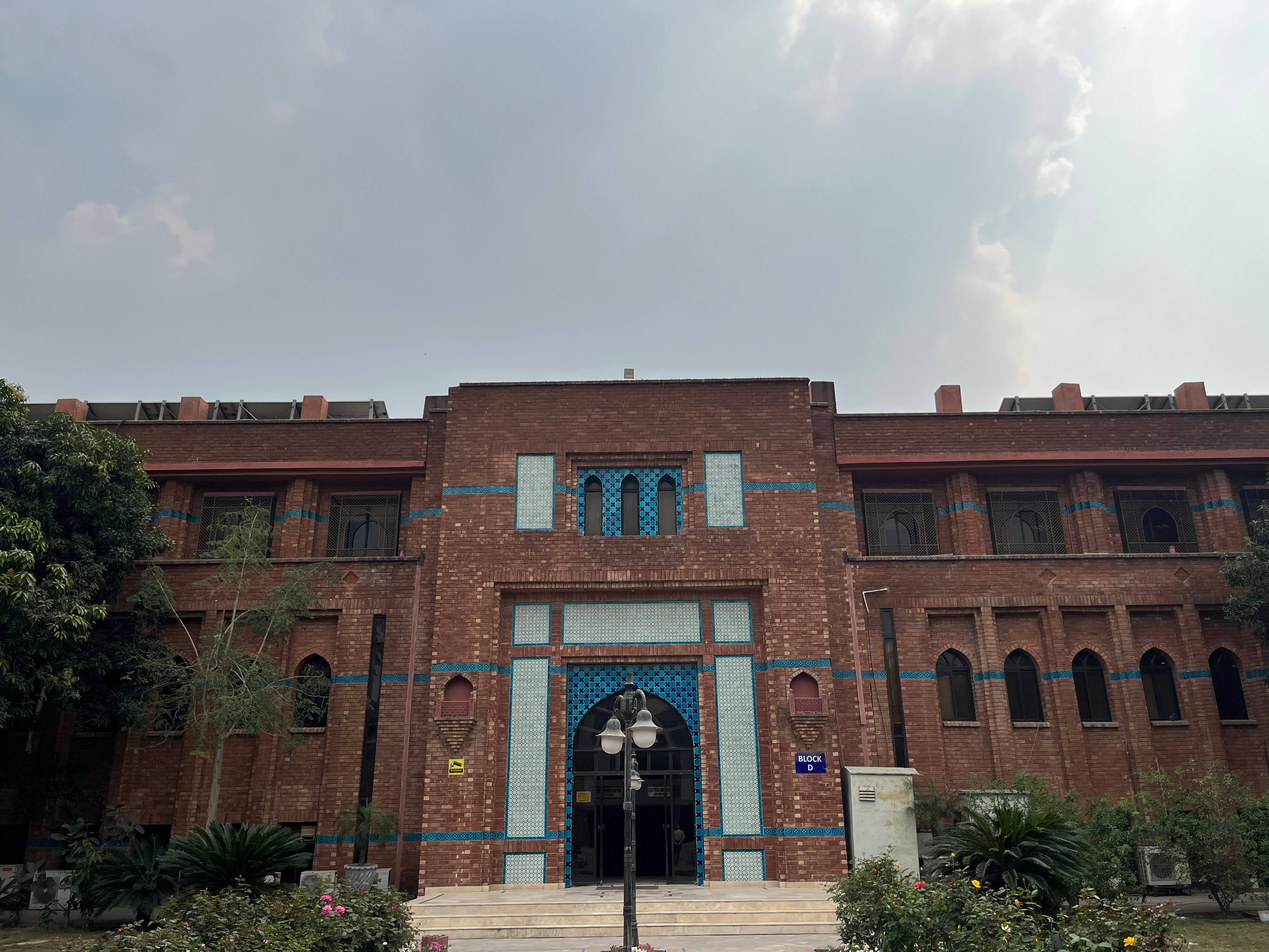Block D: (3, 367, 1269, 907)
